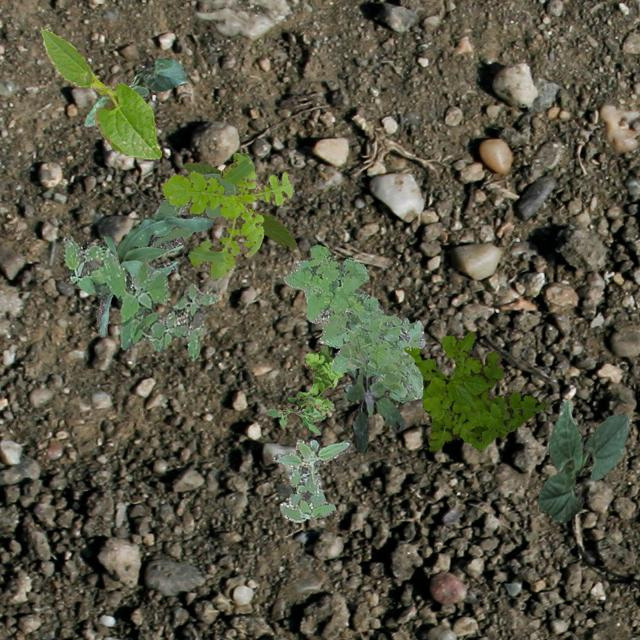crop: (41, 27, 160, 158), (96, 212, 212, 336), (538, 399, 628, 522), (182, 160, 296, 248), (82, 56, 186, 126), (150, 170, 238, 247)
weed: (282, 244, 424, 402), (61, 234, 218, 358), (402, 330, 546, 452), (162, 152, 292, 278), (272, 438, 350, 522), (342, 366, 402, 452), (296, 344, 342, 414), (264, 396, 324, 434)
